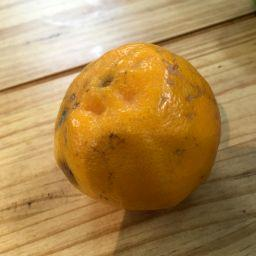Unripe: (56, 44, 221, 209)
